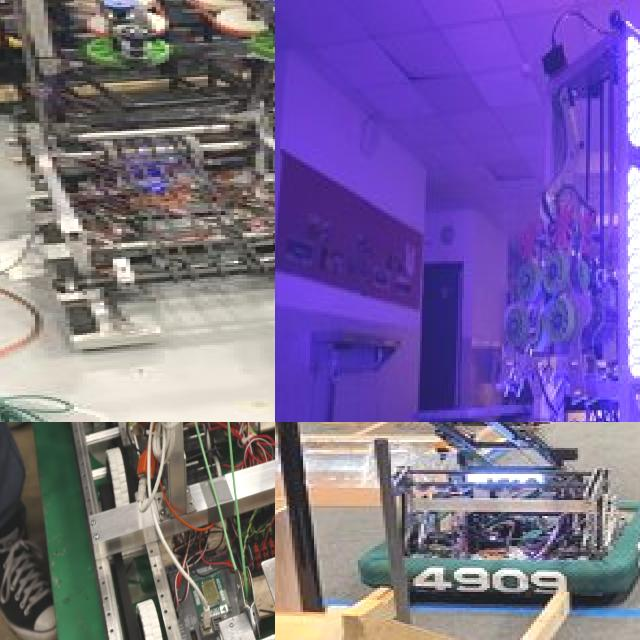FRC-Robots: (0, 0, 275, 335), (472, 0, 640, 422), (275, 422, 640, 616), (58, 422, 275, 640)
